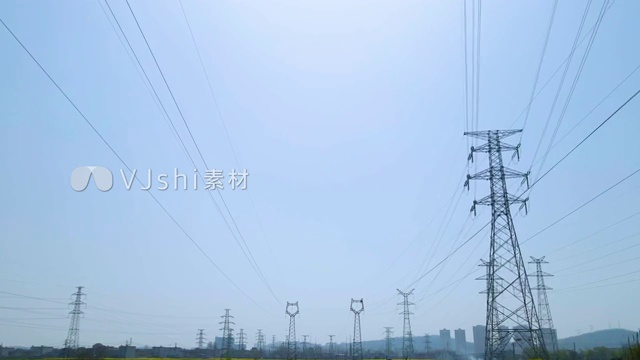tower_body: (453, 117, 549, 360), (345, 294, 371, 360), (278, 294, 304, 358)
tower_foot: (483, 317, 547, 359)
tower_head: (457, 122, 529, 156), (348, 295, 368, 316), (281, 299, 303, 317)
